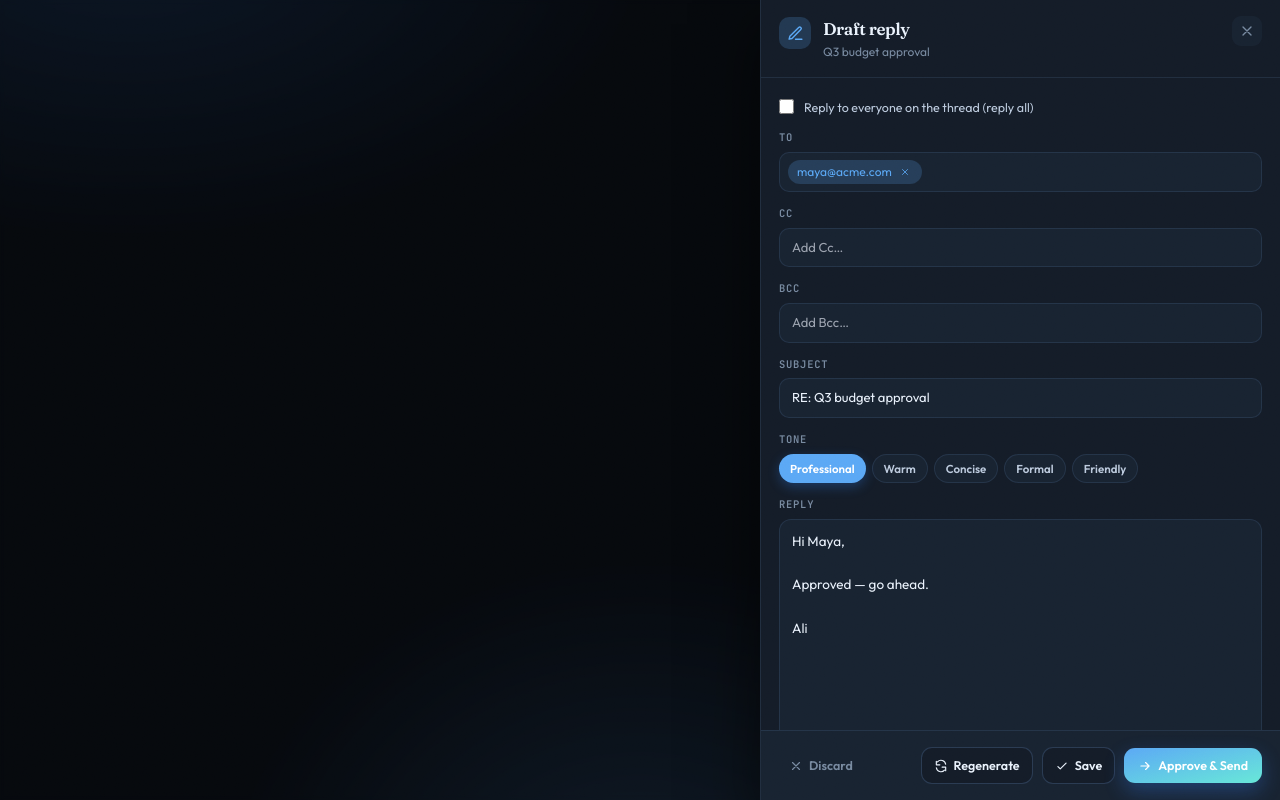
DraftComposer › lets the manager remove a recipient and add a Bcc address
# Remove the seeded To recipient.
Click the button named "Remove maya@acme.com" at (905, 172), box [898,164,913,180]
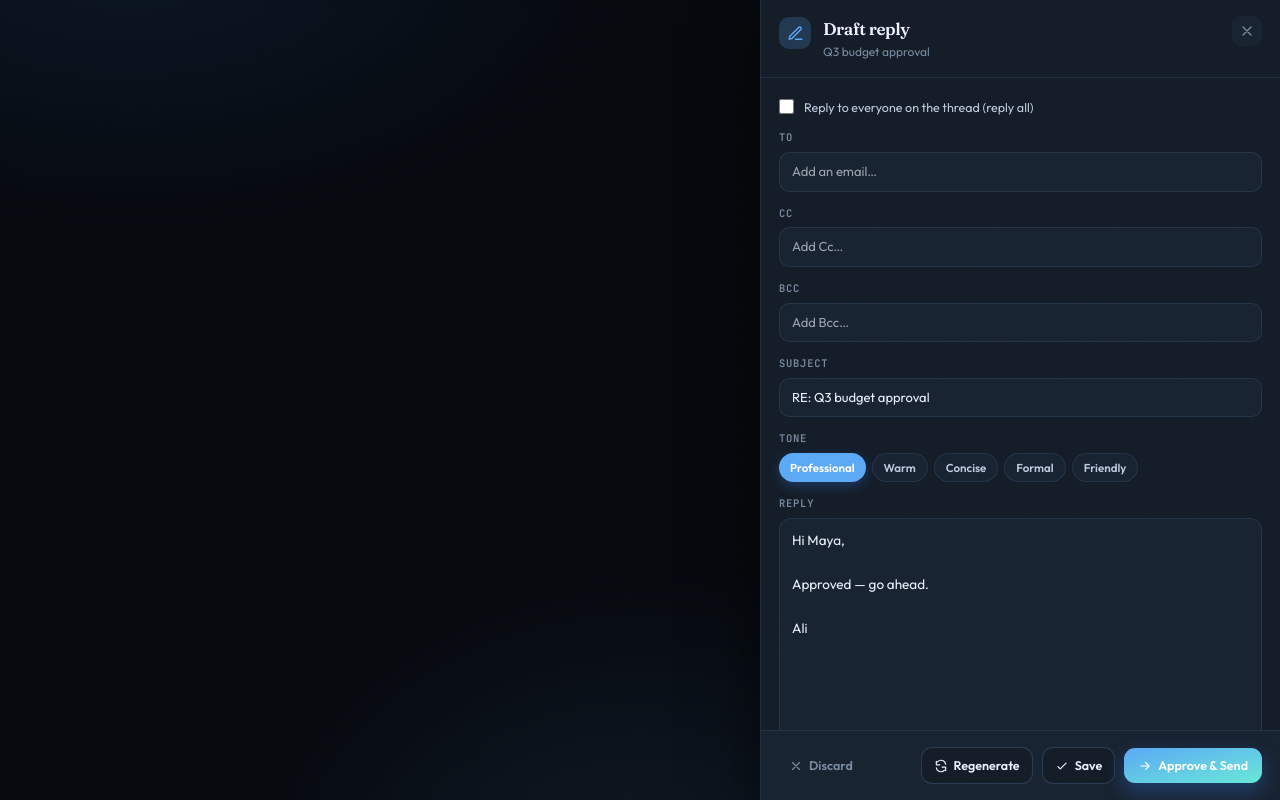
Check: the text "maya@acme.com" is gone
# Add a Bcc address (Enter commits it as a chip).
Type "boss@acme.com" into the field named "Add Bcc recipient" at (1020, 322), box [788,310,1253,334]
Then press Enter
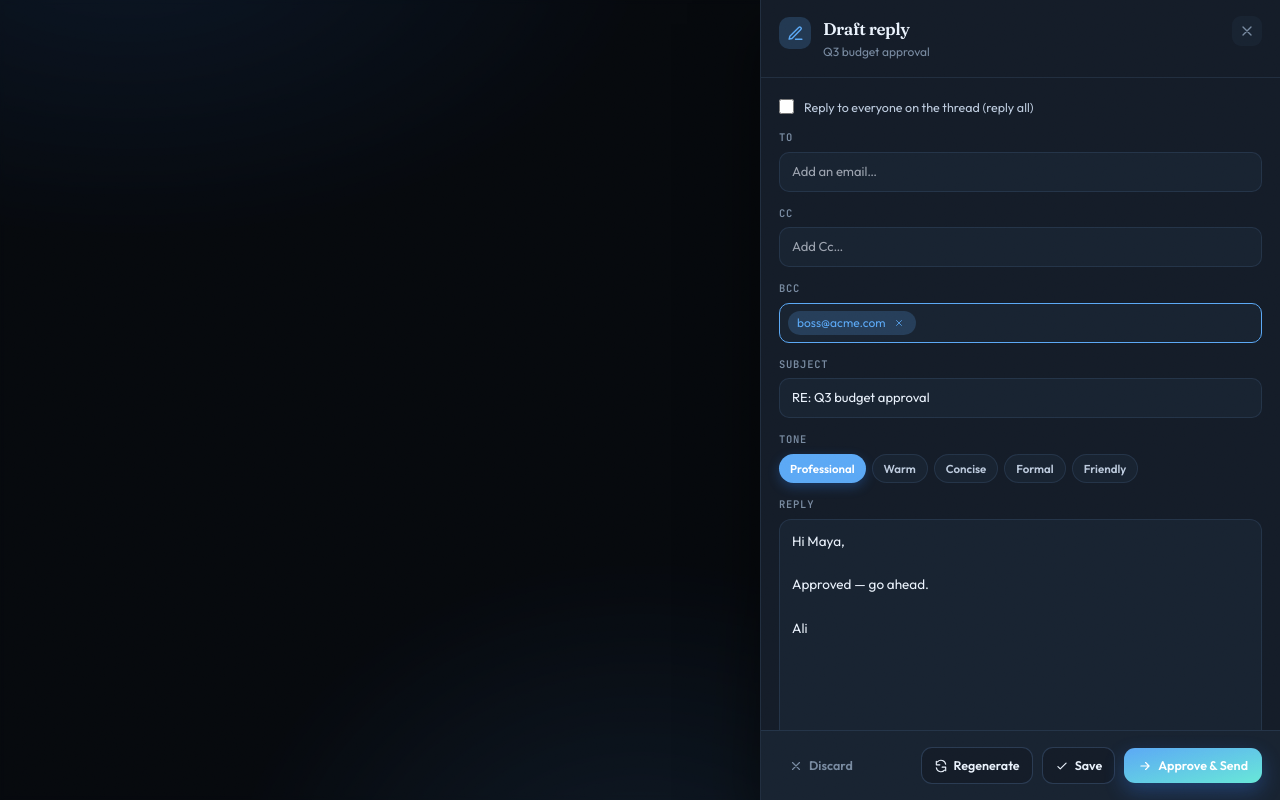
Check: the text "boss@acme.com" is shown, box [797,314,886,332]
